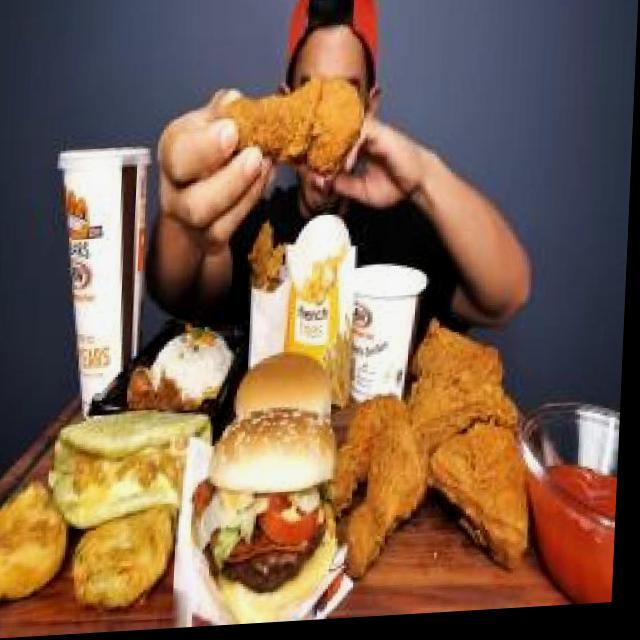AW cola: (49, 112, 164, 402)
black pepper rice bowl: (112, 292, 264, 432)
cheese burger: (229, 341, 347, 450)
chicken waffle: (245, 231, 302, 363)
crispy corn: (350, 249, 434, 413)
french fries: (293, 235, 361, 336)
fried chicken: (331, 307, 548, 590), (197, 75, 380, 206)
mango chicken pocket: (46, 399, 226, 545)
mozza burger: (183, 407, 365, 630)
perkedel: (66, 508, 190, 619), (0, 458, 82, 616)
